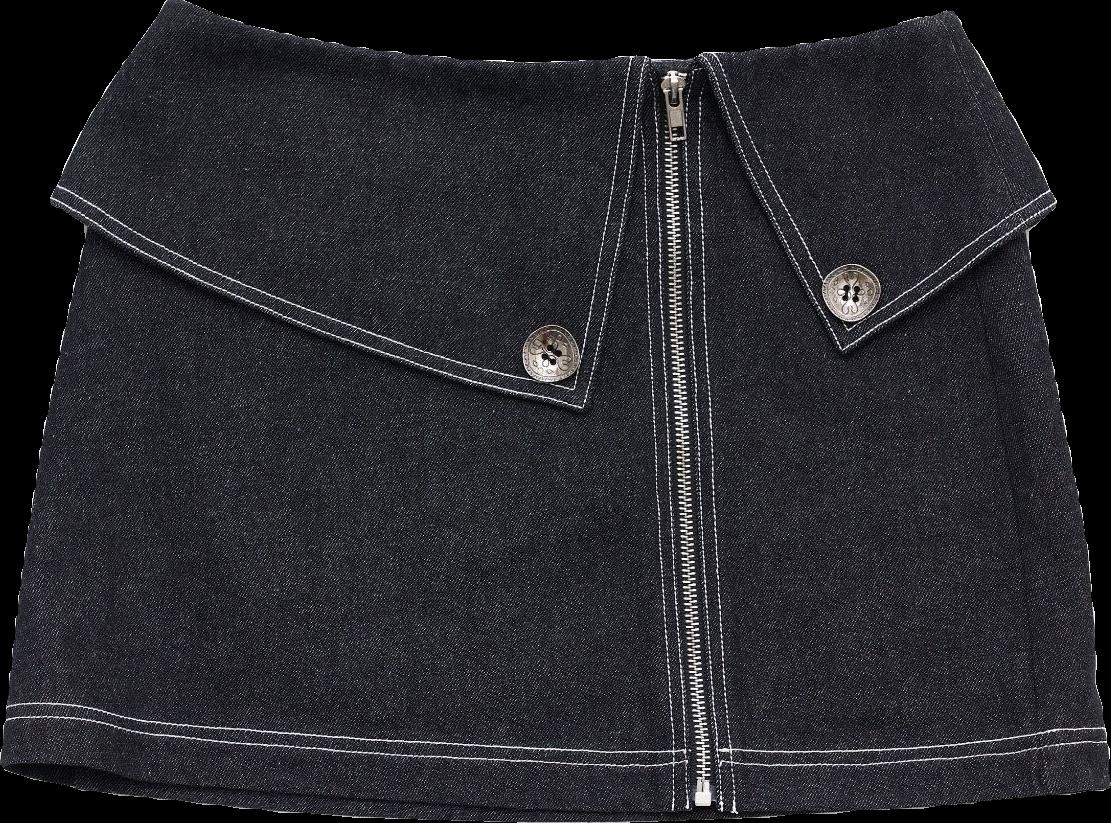Hemline: (49, 58, 653, 410), (699, 55, 1062, 364), (4, 757, 1110, 820)
Waistline: (169, 0, 952, 64)
